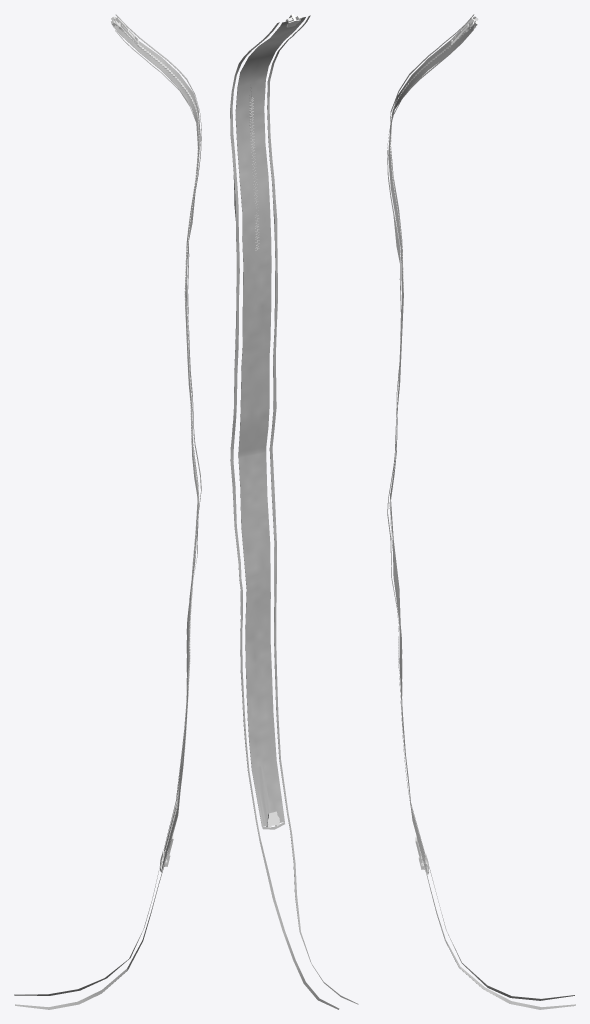
Rendered from Ziplock_Center.glb.
The picture shows the model from 3 angles, left to right: view 1: azimuth 90°, elevation 25°; view 2: azimuth 210°, elevation 25°; view 3: azimuth 270°, elevation 25°; orthographic projection. The views are drawn at different scales.
Visible parts, largest first — view 1: Rope1, Cloth1, Ziplock_Center1; view 2: Cloth1, Rope1, Ziplock_Center1; view 3: Cloth1, Rope1, Ziplock_Center1.
Part boxes in pixels (x1,y1,x2,y2): Rope1: [14, 14, 201, 1009]; Cloth1: [115, 17, 200, 870]; Ziplock_Center1: [111, 16, 199, 868]; Cloth1: [235, 17, 305, 826]; Rope1: [230, 15, 358, 1009]; Ziplock_Center1: [249, 14, 301, 827]; Cloth1: [388, 16, 474, 872]; Rope1: [387, 14, 575, 1009]; Ziplock_Center1: [389, 16, 478, 872].
Size of the model in its own units: 0.052 by 1.12 by 0.1943.
3 materials, 3 textured.
